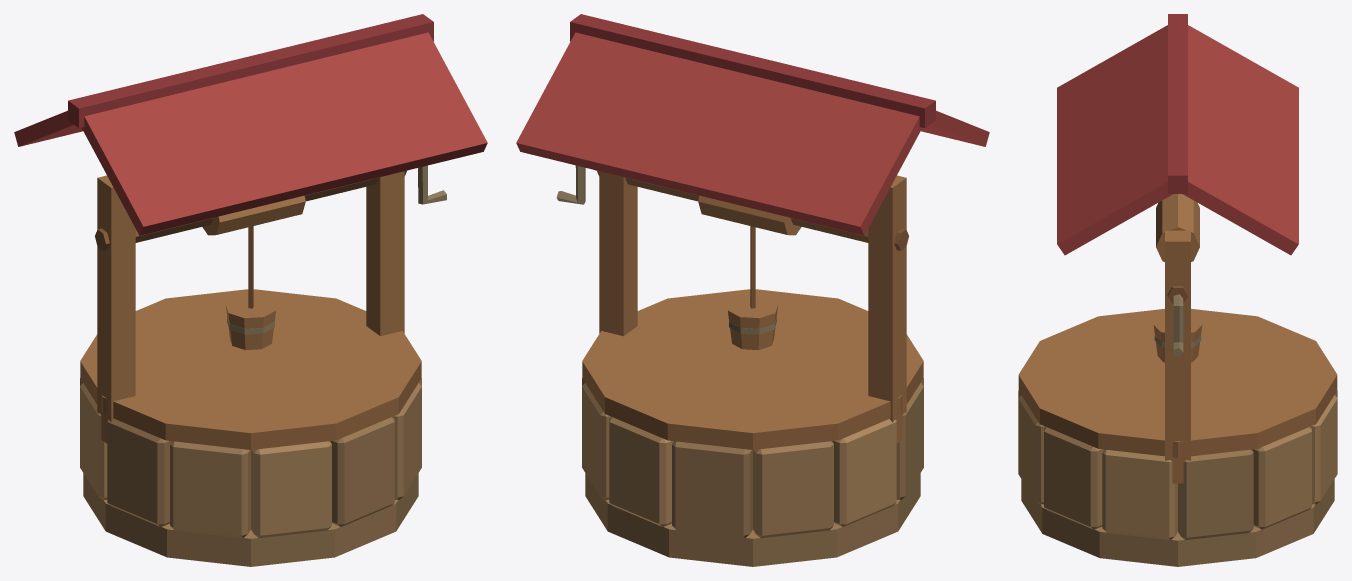
Rendered from ranch_well.fbx.
The picture shows the model from 3 angles, left to right: view 1: azimuth 30°, elevation 25°; view 2: azimuth 150°, elevation 25°; view 3: azimuth 270°, elevation 25°; orthographic projection. The views are drawn at different scales.
Visible parts, largest first — view 1: ranch_well; view 2: ranch_well; view 3: ranch_well.
Part boxes in pixels (x1,y1,x2,y2): ranch_well: (14,14,487,566); ranch_well: (516,14,989,566); ranch_well: (1018,14,1337,566).
Size of the model in its own units: 6.9 by 7.73 by 5.51.
